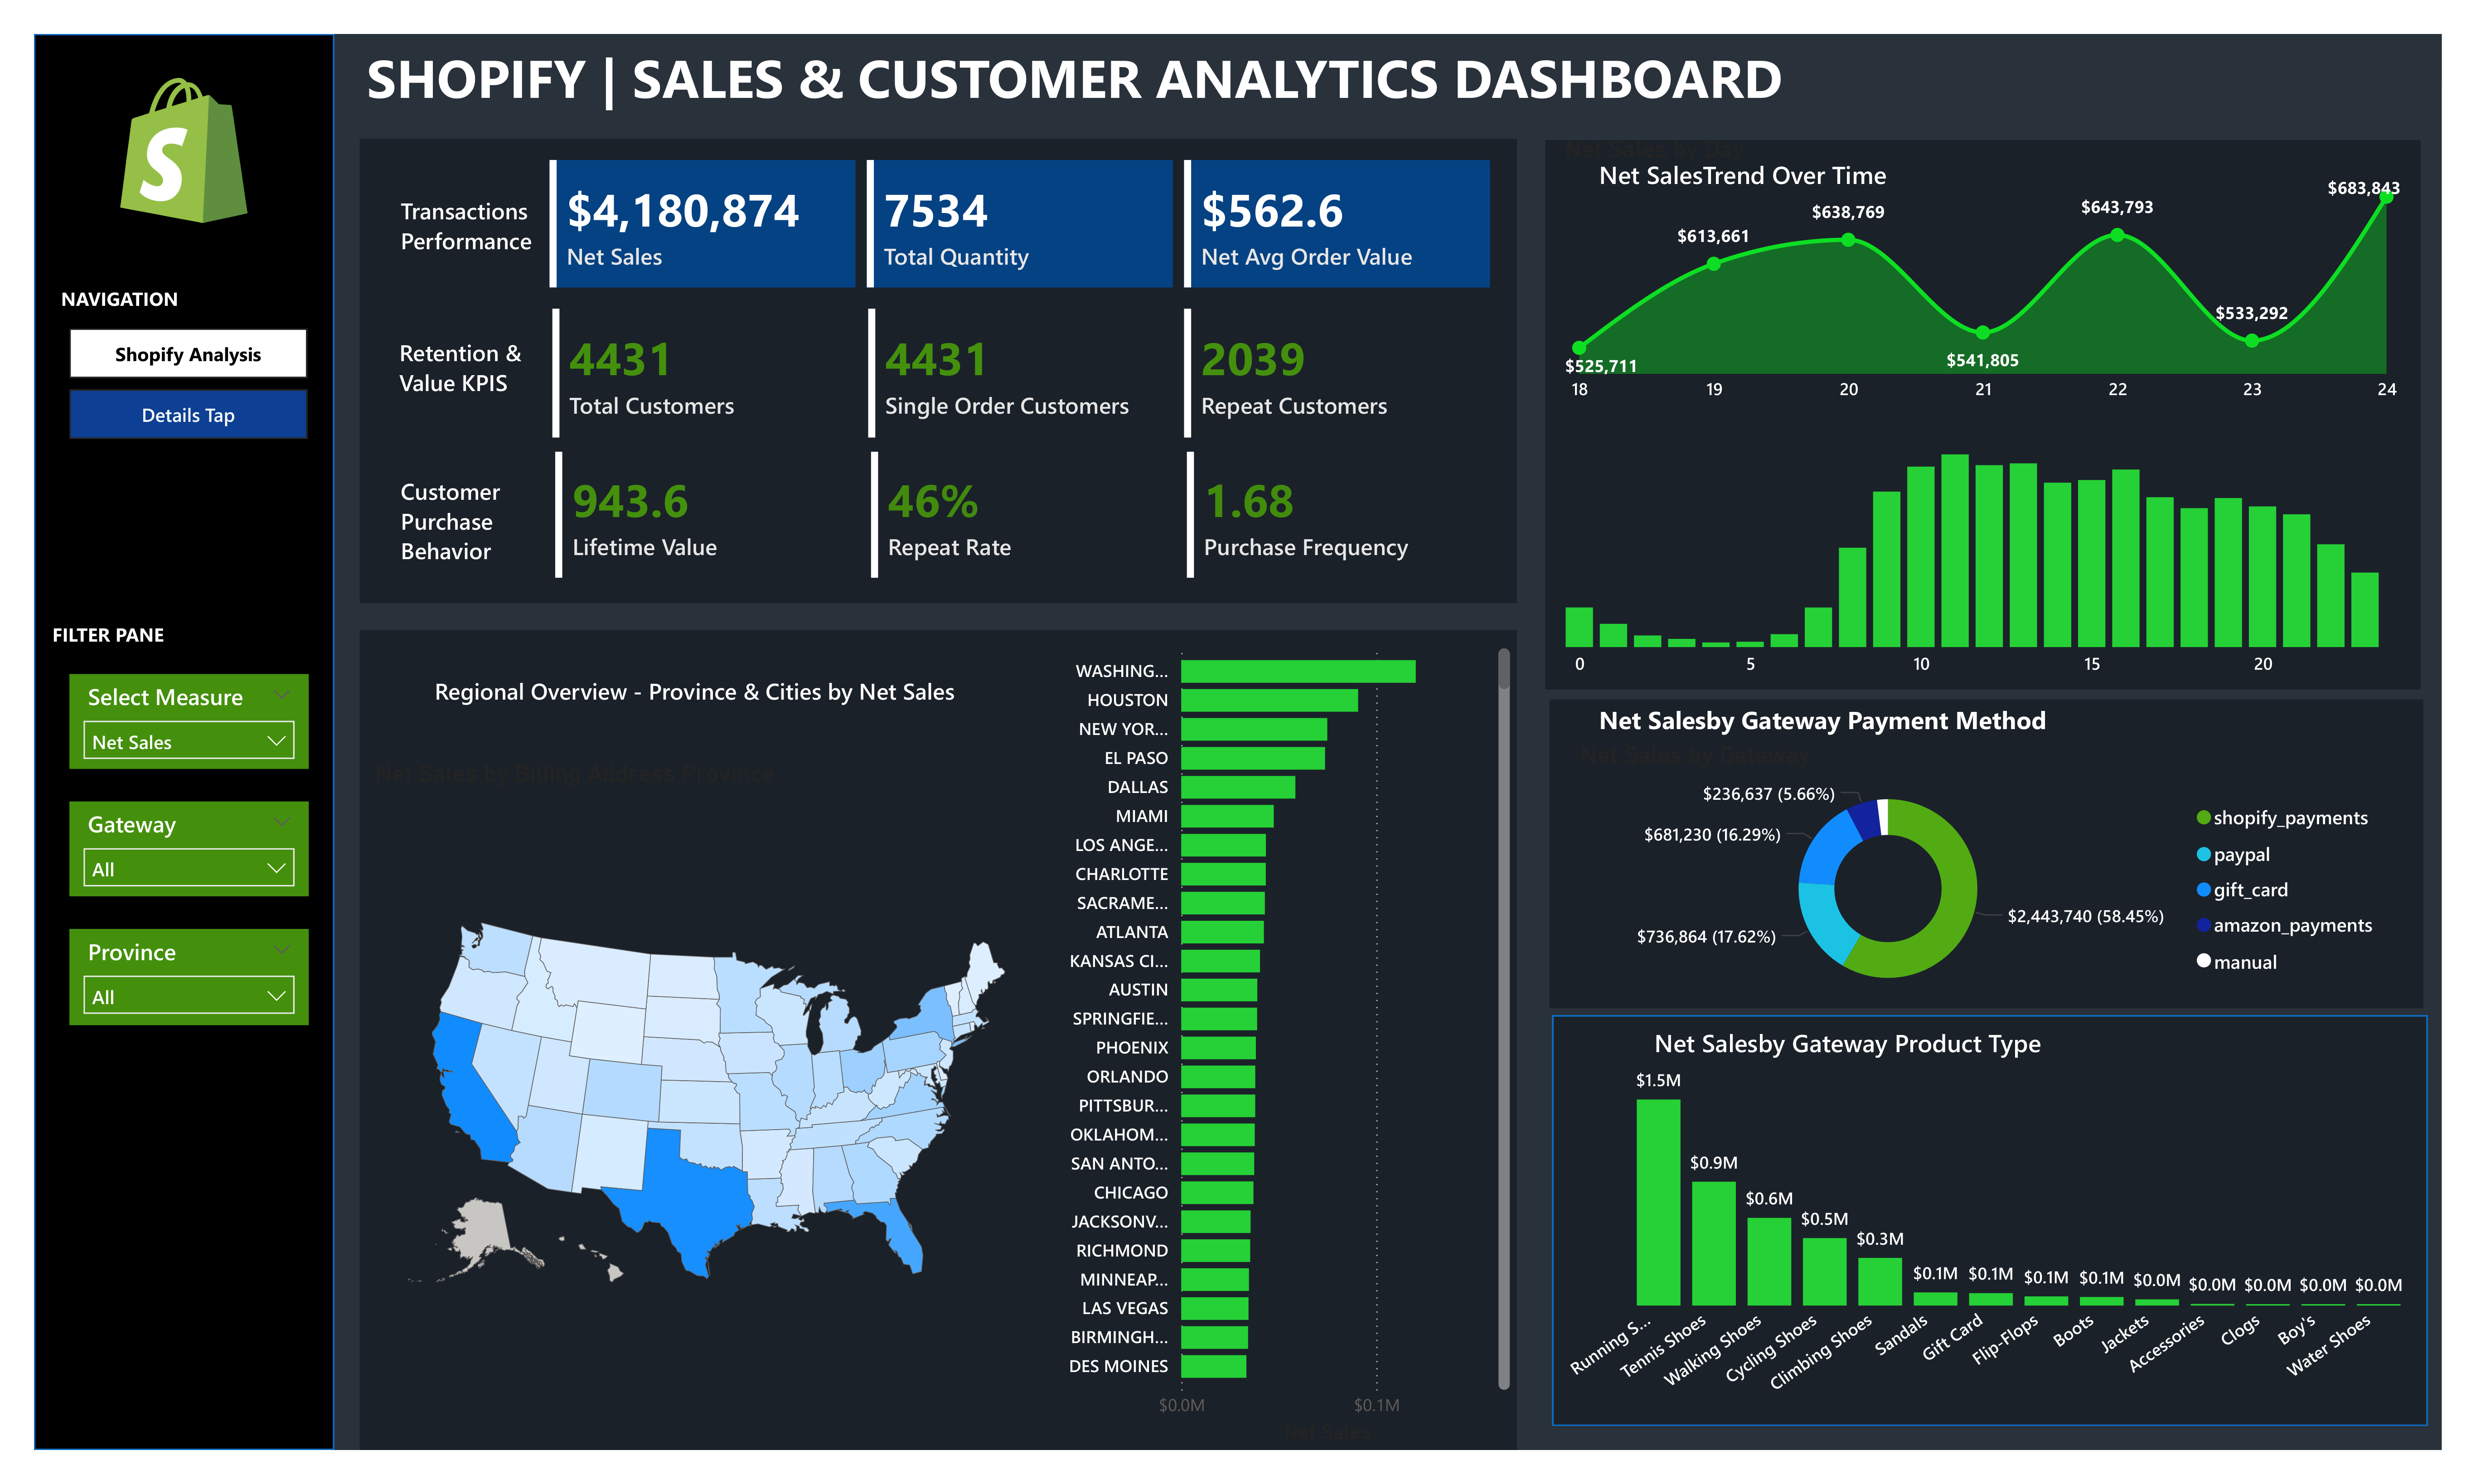

The dashboard page shown, as its layout file describes it:
{"tool":"powerbi","page":{"name":"Shopify Analysis","canvas":[1700,1000],"ordinal":0},"visuals":[{"type":"shape","box":[0,0,211.8,1000],"z":0},{"type":"textbox","box":[230,0,1044.3,70],"z":1000},{"type":"shape","box":[230.2,74.4,816.3,327.9],"z":2000},{"type":"cardVisual","fields":{"Data":["shopify_sales.Net Sales","shopify_sales.Total Quantity","shopify_sales.Net Avg Order Value"]},"box":[346.7,71.8,700.3,124.3],"z":3000},{"type":"cardVisual","fields":{"Data":["shopify_sales.Transactions Performance"]},"box":[230.2,74.4,153.5,120.9],"z":4000},{"type":"cardVisual","fields":{"Data":["shopify_sales.Total Customers","shopify_sales.Single Order Customers","shopify_sales.Repeat Customers"]},"box":[348.8,176.7,697.7,125.6],"z":5000},{"type":"cardVisual","fields":{"Data":["shopify_sales.Lifetime Value","shopify_sales.Repeat Rate","shopify_sales.Purchase Frequency"]},"box":[350.8,277.8,696.8,123.8],"z":6000},{"type":"cardVisual","fields":{"Data":["shopify_sales.Retention & Value KPIS"]},"box":[229.3,169.2,169.2,129.7],"z":7000},{"type":"cardVisual","fields":{"Data":["shopify_sales.Customer Purchase Behavior"]},"box":[229.8,268.4,146.4,148.4],"z":8000},{"type":"shape","box":[230.2,420.9,816.3,579.1],"z":9000},{"type":"shapeMap","fields":{"Category":["shopify_sales.Billing Address Province"],"Value":["shopify_sales.Net Sales"]},"box":[235.9,512.4,477.9,465.7],"z":10000},{"type":"slicer","fields":{"Values":["Select Measure.Select Measure"]},"box":[25,452,169,67],"z":11000},{"type":"clusteredBarChart","fields":{"Category":["shopify_sales.CITY"],"Y":["shopify_sales.Net Sales"]},"box":[714,420.9,332.6,579.1],"z":12000},{"type":"cardVisual","fields":{"Data":["shopify_sales.Map Title"]},"box":[254.2,423,441.3,79.3],"z":13000},{"type":"shape","box":[1067.3,75.3,617.6,387.3],"z":14000},{"type":"areaChart","fields":{"Category":["shopify_sales.Invoice Date.Variation.Date Hierarchy.Day"],"Y":["shopify_sales.Net Sales"]},"box":[1075.9,71,600.4,198],"z":15000},{"type":"columnChart","fields":{"Category":["shopify_sales.Hour"],"Y":["shopify_sales.Net Sales"]},"box":[1075.9,269,609,193.7],"z":16000},{"type":"cardVisual","fields":{"Data":["shopify_sales.Trend Title"]},"box":[1075.9,71,344.3,53.8],"z":17000},{"type":"shape","box":[1069.7,469.6,617.7,218.5],"z":18000},{"type":"donutChart","fields":{"Category":["shopify_sales.Gateway"],"Y":["shopify_sales.Net Sales"]},"box":[1086.7,499.2,578.9,189.4],"z":19000},{"type":"cardVisual","fields":{"Data":["shopify_sales.Gateway Title"]},"box":[1075.9,451.9,395.9,60.3],"z":20000},{"type":"shape","box":[1067.2,693.1,617.7,286.3],"z":21000},{"type":"shape","box":[1071.9,693.5,618.2,289.3],"z":22000},{"type":"columnChart","fields":{"Category":["shopify_sales.Product Type"],"Y":["shopify_sales.Net Sales"]},"box":[1075.9,711.3,616.2,267.5],"z":23000},{"type":"cardVisual","fields":{"Data":["shopify_sales.Product Title"]},"box":[1114.7,680.5,394.7,60.2],"z":24000},{"type":"image","box":[61.4,29.7,89.2,105],"z":25000},{"type":"slicer","fields":{"Values":["shopify_sales.Gateway"]},"box":[25,542,169,67],"z":26000},{"type":"slicer","fields":{"Values":["shopify_sales.Billing Address Province"]},"box":[25,632,169,68],"z":27000},{"type":"pageNavigator","box":[25,208,168,79],"z":28000},{"type":"textbox","box":[13.5,172.7,184.6,69.4],"z":28001},{"type":"textbox","box":[8.5,409.8,184.6,33.9],"z":28002}]}

Visuals, with their boxes on the page's 1700x1000 design canvas (x1, y1, x2, y2). These are canvas units, not pixel positions in the 2476x1484 screenshot, which may show the page scaled, cropped or inside an application window:
shape: x1=0, y1=0, x2=212, y2=1000
textbox: x1=230, y1=0, x2=1274, y2=70
shape: x1=230, y1=74, x2=1046, y2=402
cardVisual - shopify_sales.Net Sales x shopify_sales.Total Quantity: x1=347, y1=72, x2=1047, y2=196
cardVisual - shopify_sales.Transactions Performance: x1=230, y1=74, x2=384, y2=195
cardVisual - shopify_sales.Total Customers x shopify_sales.Single Order Customers: x1=349, y1=177, x2=1046, y2=302
cardVisual - shopify_sales.Lifetime Value x shopify_sales.Repeat Rate: x1=351, y1=278, x2=1048, y2=402
cardVisual - shopify_sales.Retention & Value KPIS: x1=229, y1=169, x2=398, y2=299
cardVisual - shopify_sales.Customer Purchase Behavior: x1=230, y1=268, x2=376, y2=417
shape: x1=230, y1=421, x2=1046, y2=1000
shapeMap - shopify_sales.Billing Address Province x shopify_sales.Net Sales: x1=236, y1=512, x2=714, y2=978
slicer - Select Measure.Select Measure: x1=25, y1=452, x2=194, y2=519
clusteredBarChart - shopify_sales.CITY x shopify_sales.Net Sales: x1=714, y1=421, x2=1047, y2=1000
cardVisual - shopify_sales.Map Title: x1=254, y1=423, x2=696, y2=502
shape: x1=1067, y1=75, x2=1685, y2=463
areaChart - shopify_sales.Invoice Date.Variation.Date Hierarchy.Day x shopify_sales.Net Sales: x1=1076, y1=71, x2=1676, y2=269
columnChart - shopify_sales.Hour x shopify_sales.Net Sales: x1=1076, y1=269, x2=1685, y2=463
cardVisual - shopify_sales.Trend Title: x1=1076, y1=71, x2=1420, y2=125
shape: x1=1070, y1=470, x2=1687, y2=688
donutChart - shopify_sales.Gateway x shopify_sales.Net Sales: x1=1087, y1=499, x2=1666, y2=689
cardVisual - shopify_sales.Gateway Title: x1=1076, y1=452, x2=1472, y2=512
shape: x1=1067, y1=693, x2=1685, y2=979
shape: x1=1072, y1=694, x2=1690, y2=983
columnChart - shopify_sales.Product Type x shopify_sales.Net Sales: x1=1076, y1=711, x2=1692, y2=979
cardVisual - shopify_sales.Product Title: x1=1115, y1=680, x2=1509, y2=741
image: x1=61, y1=30, x2=151, y2=135
slicer - shopify_sales.Gateway: x1=25, y1=542, x2=194, y2=609
slicer - shopify_sales.Billing Address Province: x1=25, y1=632, x2=194, y2=700
pageNavigator: x1=25, y1=208, x2=193, y2=287
textbox: x1=14, y1=173, x2=198, y2=242
textbox: x1=8, y1=410, x2=193, y2=444
